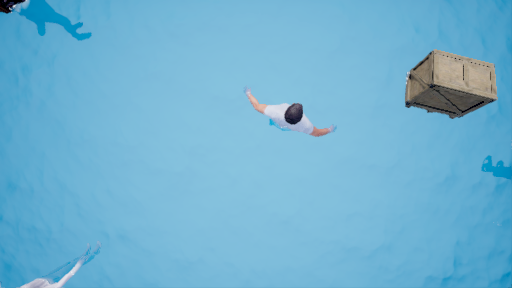person: (248, 87, 321, 146)
